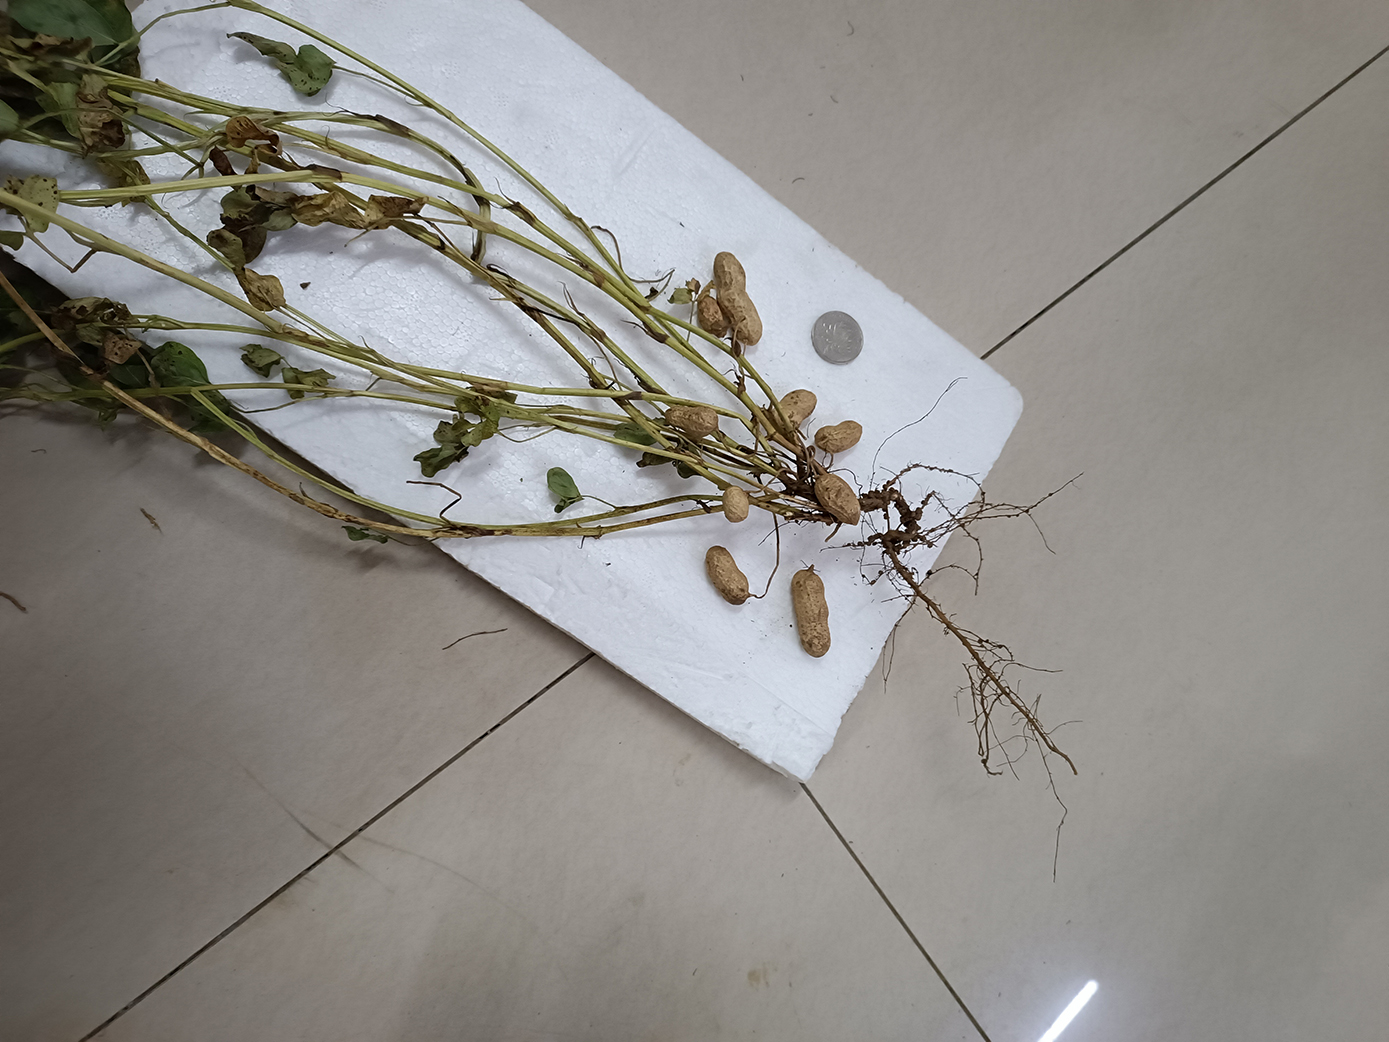h: (713, 251, 763, 346), (791, 569, 832, 659), (705, 544, 751, 605), (813, 474, 860, 525), (776, 387, 818, 429), (664, 405, 718, 437), (813, 420, 863, 453), (722, 484, 750, 523)
l: (695, 296, 726, 336)
